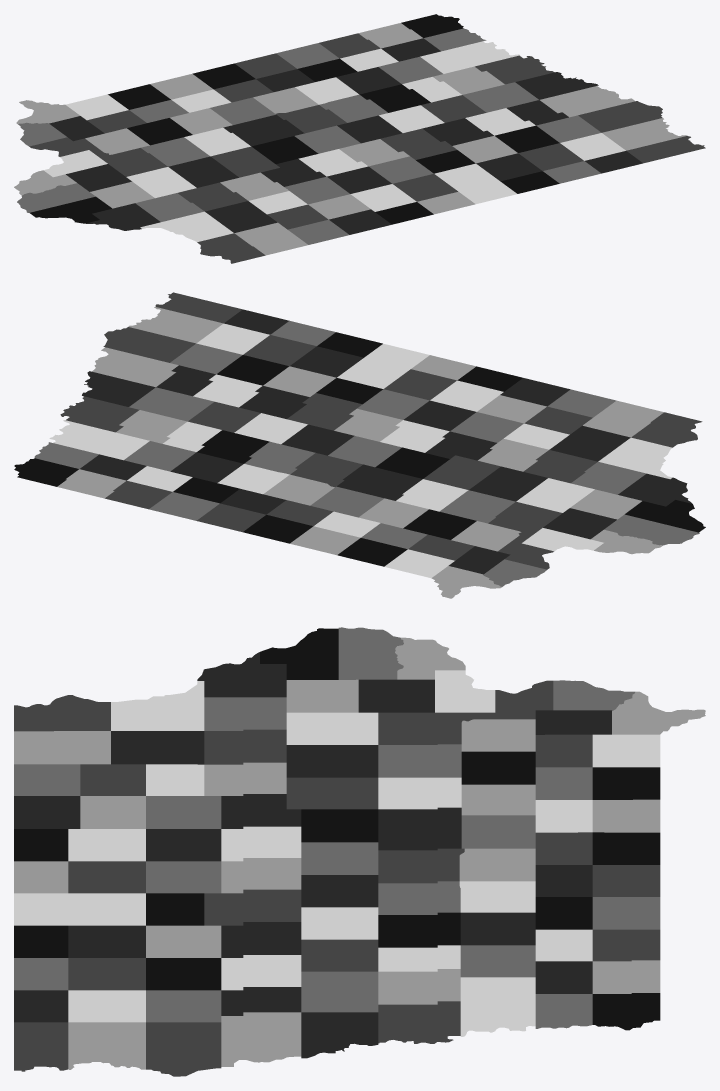
File: Iowa_Counties_2D.fbx
3 views of the same model, one above another, from view 1: azimuth 30°, elevation 25°; view 2: azimuth 150°, elevation 25°; view 3: azimuth 270°, elevation 25° (orthographic). The views are drawn at different scales.
Visible parts, largest first — view 1: IA_Kossuth_County_2D, IA_Pottawattamie_County_2D, IA_Woodbury_County_2D, IA_Plymouth_County_2D, IA_Jasper_County_2D, IA_Sioux_County_2D, IA_Clayton_County_2D, IA_Winneshiek_County_2D, IA_Webster_County_2D, IA_Fayette_County_2D, IA_Crawford_County_2D, IA_Harrison_County_2D (+87 smaller); view 2: IA_Kossuth_County_2D, IA_Pottawattamie_County_2D, IA_Woodbury_County_2D, IA_Plymouth_County_2D, IA_Jasper_County_2D, IA_Sioux_County_2D, IA_Clayton_County_2D, IA_Winneshiek_County_2D, IA_Webster_County_2D, IA_Fayette_County_2D, IA_Crawford_County_2D, IA_Harrison_County_2D (+87 smaller); view 3: IA_Kossuth_County_2D, IA_Pottawattamie_County_2D, IA_Woodbury_County_2D, IA_Plymouth_County_2D, IA_Jasper_County_2D, IA_Sioux_County_2D, IA_Clayton_County_2D, IA_Winneshiek_County_2D, IA_Crawford_County_2D, IA_Webster_County_2D, IA_Harrison_County_2D, IA_Fayette_County_2D (+87 smaller).
Boxes of the visible parts, bbox=[...] form: IA_Kossuth_County_2D: bbox=[434, 163, 516, 203]; IA_Pottawattamie_County_2D: bbox=[420, 41, 520, 73]; IA_Woodbury_County_2D: bbox=[540, 86, 634, 117]; IA_Plymouth_County_2D: bbox=[578, 101, 662, 132]; IA_Jasper_County_2D: bbox=[223, 114, 304, 146]; IA_Sioux_County_2D: bbox=[602, 118, 687, 150]; IA_Clayton_County_2D: bbox=[140, 211, 233, 242]; IA_Winneshiek_County_2D: bbox=[234, 222, 307, 255]; IA_Webster_County_2D: bbox=[380, 128, 456, 159]; IA_Fayette_County_2D: bbox=[205, 201, 277, 232]; IA_Crawford_County_2D: bbox=[463, 82, 538, 112]; IA_Harrison_County_2D: bbox=[475, 55, 554, 84]; IA_Kossuth_County_2D: bbox=[337, 343, 429, 388]; IA_Pottawattamie_County_2D: bbox=[49, 420, 149, 460]; IA_Woodbury_County_2D: bbox=[92, 347, 178, 387]; IA_Plymouth_County_2D: bbox=[103, 327, 195, 362]; IA_Jasper_County_2D: bbox=[336, 464, 422, 500]; IA_Sioux_County_2D: bbox=[128, 307, 223, 343]; IA_Clayton_County_2D: bbox=[598, 437, 672, 479]; IA_Winneshiek_County_2D: bbox=[583, 400, 663, 437]; IA_Webster_County_2D: bbox=[287, 393, 362, 430]; IA_Fayette_County_2D: bbox=[549, 425, 630, 461]; IA_Crawford_County_2D: bbox=[129, 387, 213, 421]; IA_Harrison_County_2D: bbox=[60, 396, 139, 432]; IA_Kossuth_County_2D: bbox=[14, 893, 145, 925]; IA_Pottawattamie_County_2D: bbox=[460, 977, 535, 1036]; IA_Woodbury_County_2D: bbox=[221, 1012, 301, 1066]; IA_Plymouth_County_2D: bbox=[146, 1022, 221, 1076]; IA_Jasper_County_2D: bbox=[378, 807, 461, 850]; IA_Sioux_County_2D: bbox=[68, 1022, 145, 1069]; IA_Clayton_County_2D: bbox=[111, 681, 204, 730]; IA_Winneshiek_County_2D: bbox=[14, 731, 110, 764]; IA_Crawford_County_2D: bbox=[301, 971, 378, 1012]; IA_Webster_County_2D: bbox=[204, 889, 301, 925]; IA_Harrison_County_2D: bbox=[378, 1001, 460, 1043]; IA_Fayette_County_2D: bbox=[111, 731, 204, 764].
Size of the model in its own units: 830 by 0 by 540.
